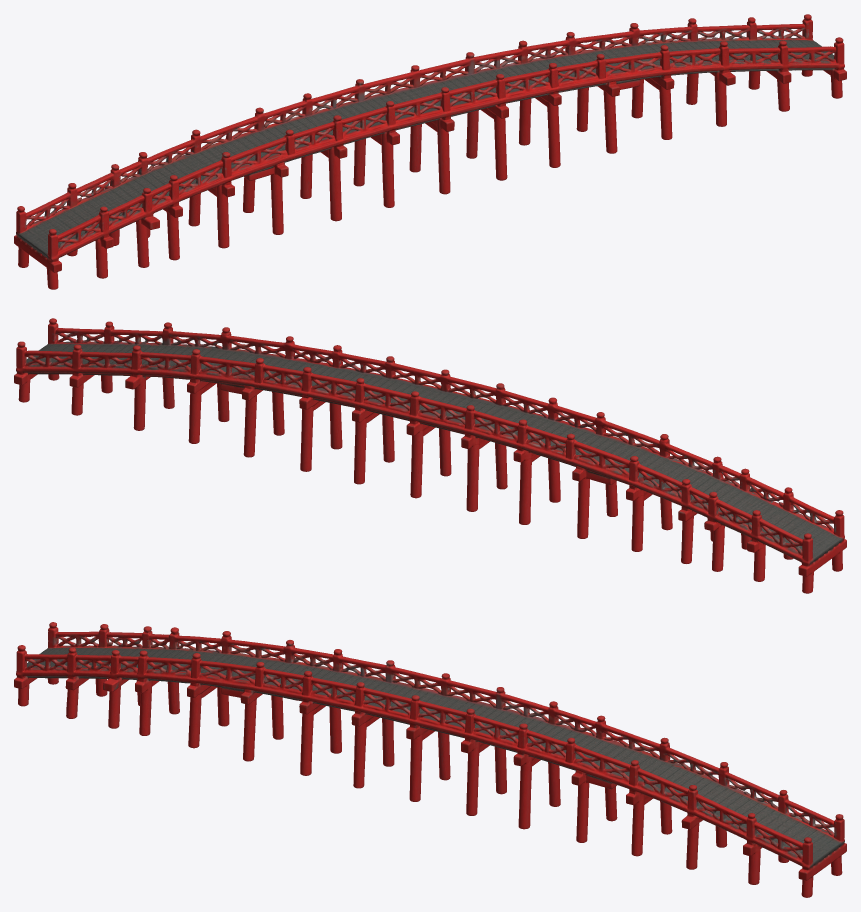
File: cầu thê húc 3d.glb
3 views of the same model, one above another, from view 1: azimuth 30°, elevation 25°; view 2: azimuth 150°, elevation 25°; view 3: azimuth 330°, elevation 25° (orthographic).
Size of the model in its own units: 1.9 by 0.2388 by 0.195.
Materials: 1 (1 with a texture image).
